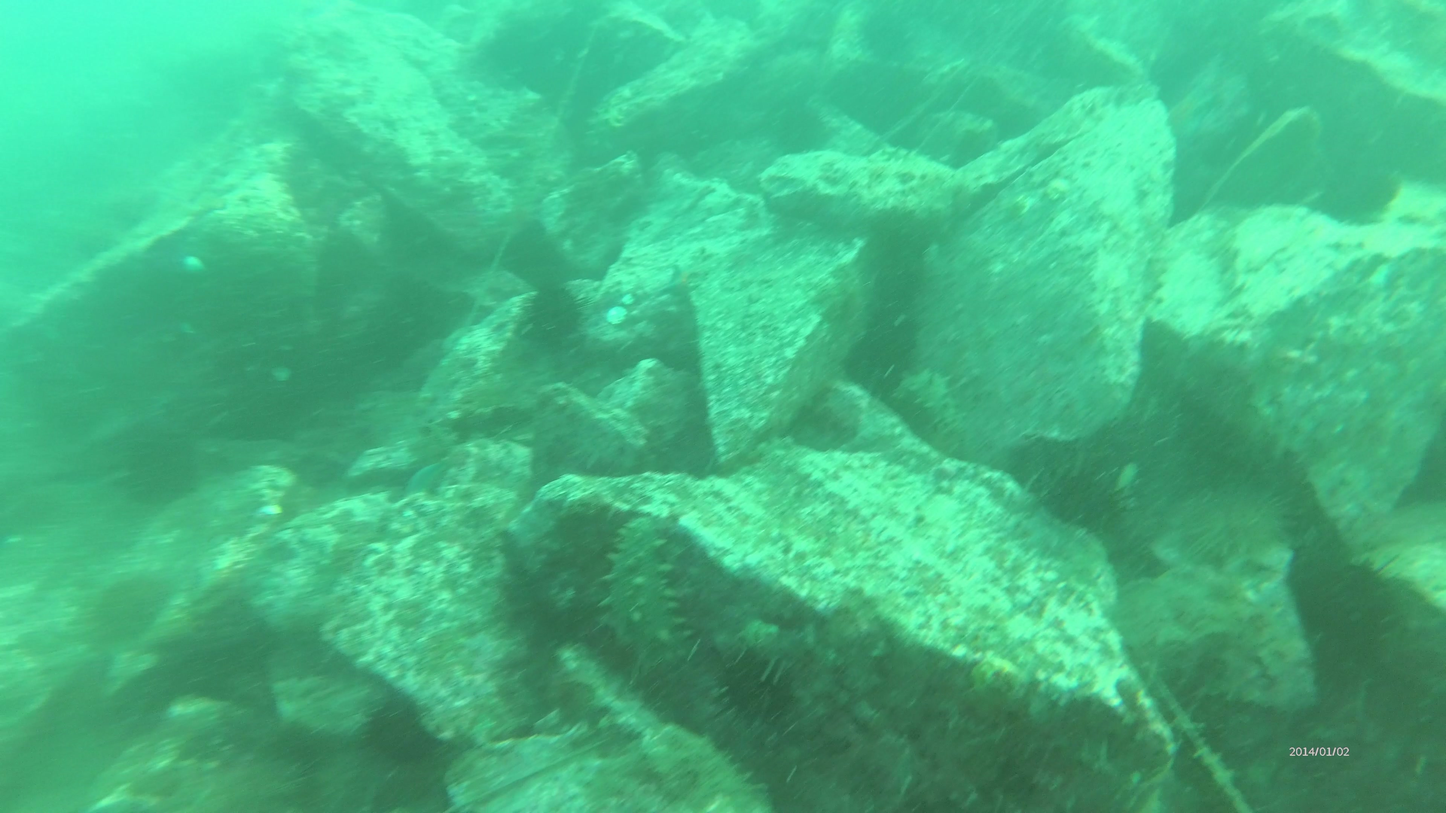echinus: (596, 513, 692, 674), (899, 370, 973, 445)
starfish: (1189, 474, 1307, 579), (712, 652, 809, 741), (72, 571, 177, 648), (1045, 463, 1131, 546), (365, 699, 444, 770), (846, 11, 918, 70), (517, 292, 586, 352), (766, 102, 832, 152)
